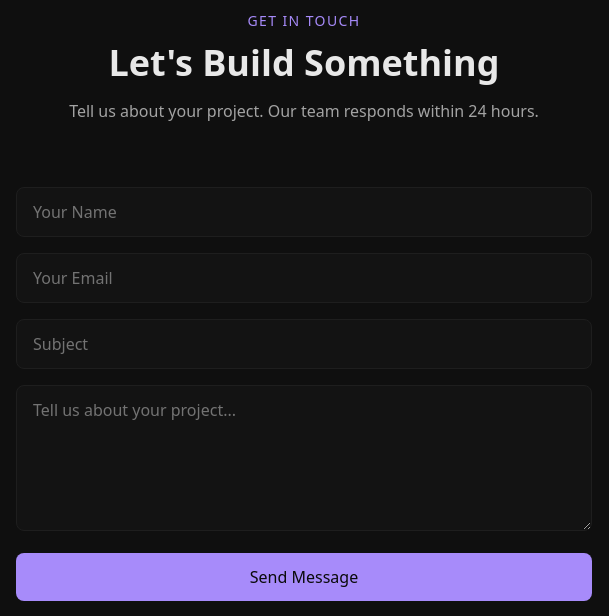
it: Contact Component › shows error message when submit fails
Type "Test User" into the field with placeholder "Your Name" at (304, 212), box [16,187,592,237]
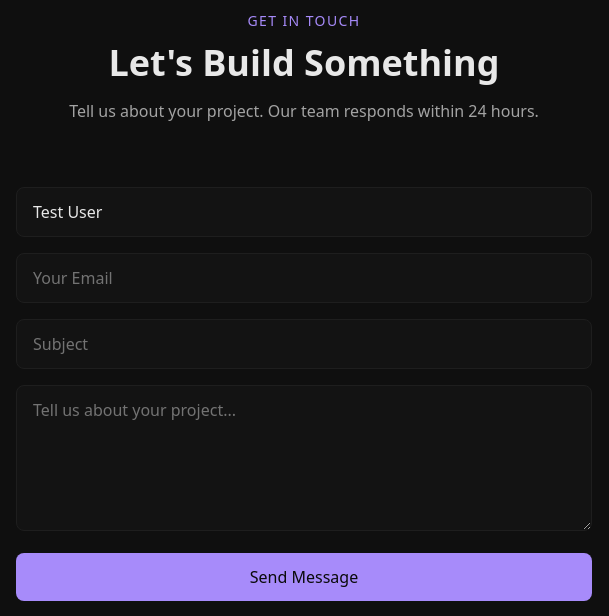
Type "test@example.com" into the field with placeholder "Your Email" at (304, 278), box [16,253,592,303]
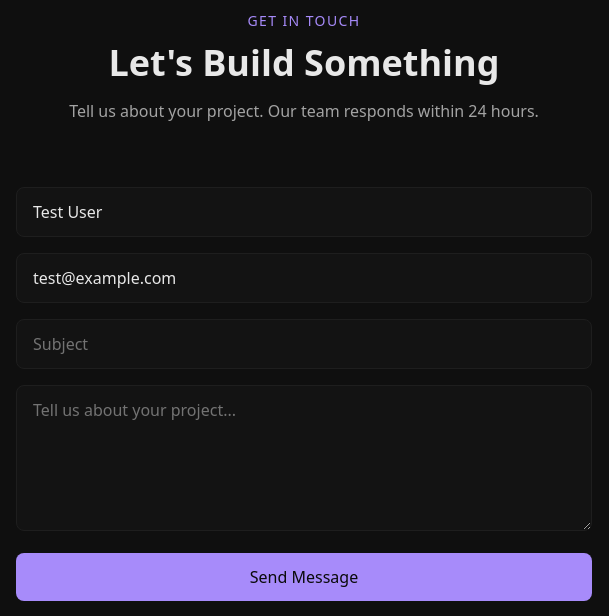
Type "Test Subject" into the field with placeholder "Subject" at (304, 344), box [16,319,592,369]
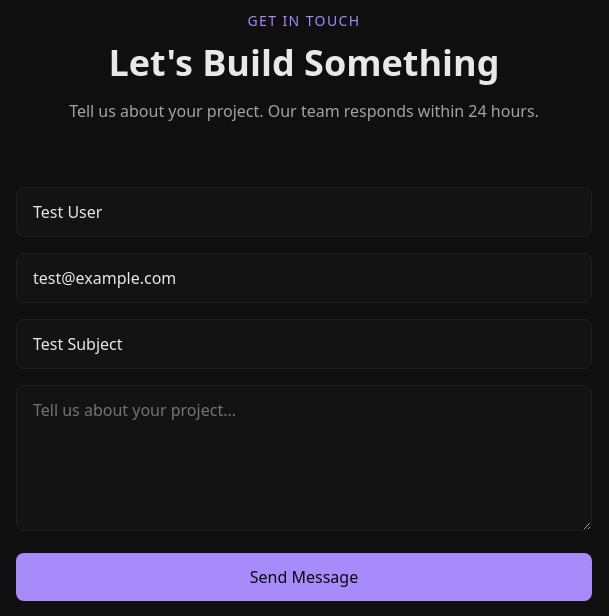
Type "This is a test message" into the text box with placeholder "Tell us about your project..." at (304, 458), box [16,385,592,531]
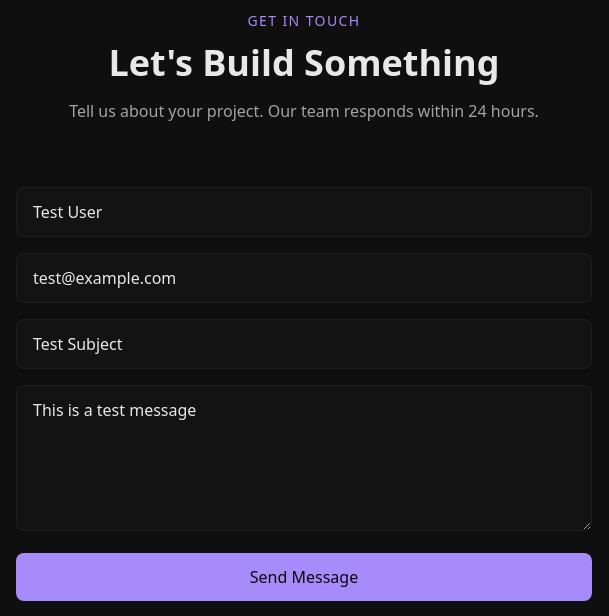
Click the button "Send Message" at (304, 577), box [16,553,592,601]
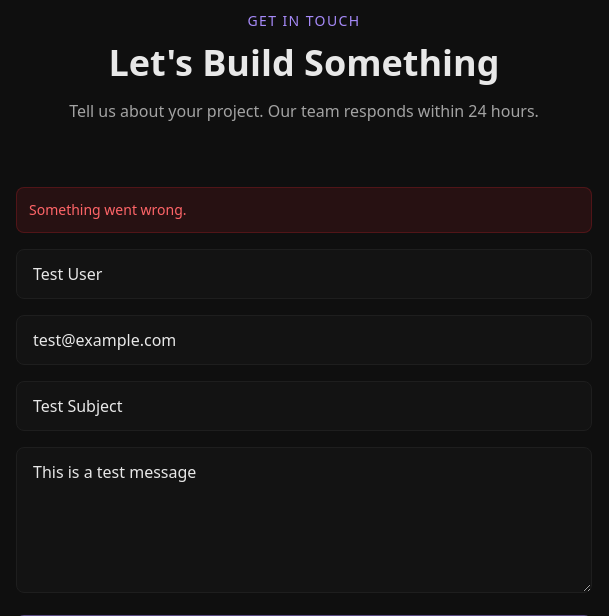
expect the text "Something went wrong." is shown: met, box [16,187,592,233]
